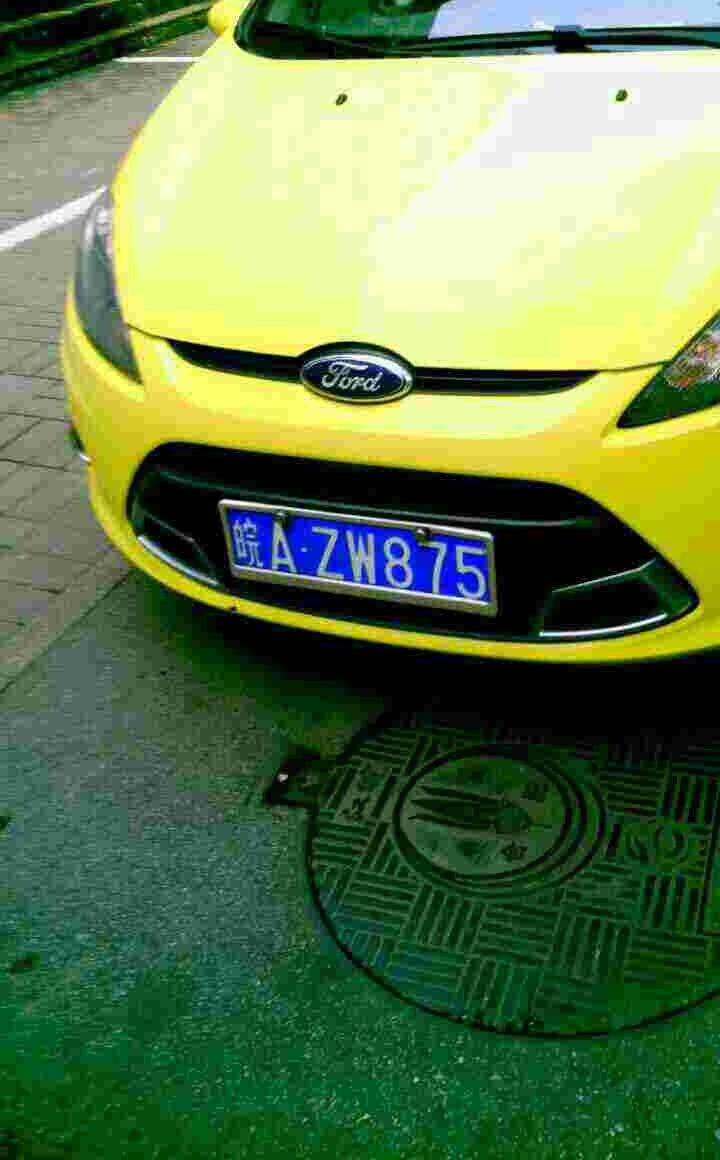car: (228, 509, 498, 614)
